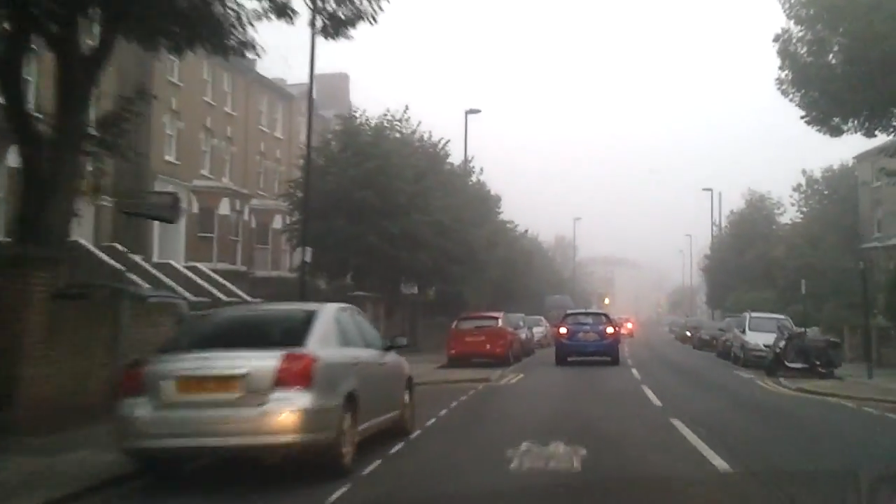bus: (539, 293, 579, 346)
car: (115, 299, 419, 480), (441, 310, 525, 367), (730, 310, 803, 371), (554, 308, 622, 367), (485, 308, 537, 360), (695, 313, 754, 355), (674, 317, 712, 349), (590, 316, 622, 347), (668, 315, 693, 336), (613, 316, 635, 339)
motorbike: (760, 315, 845, 382)
